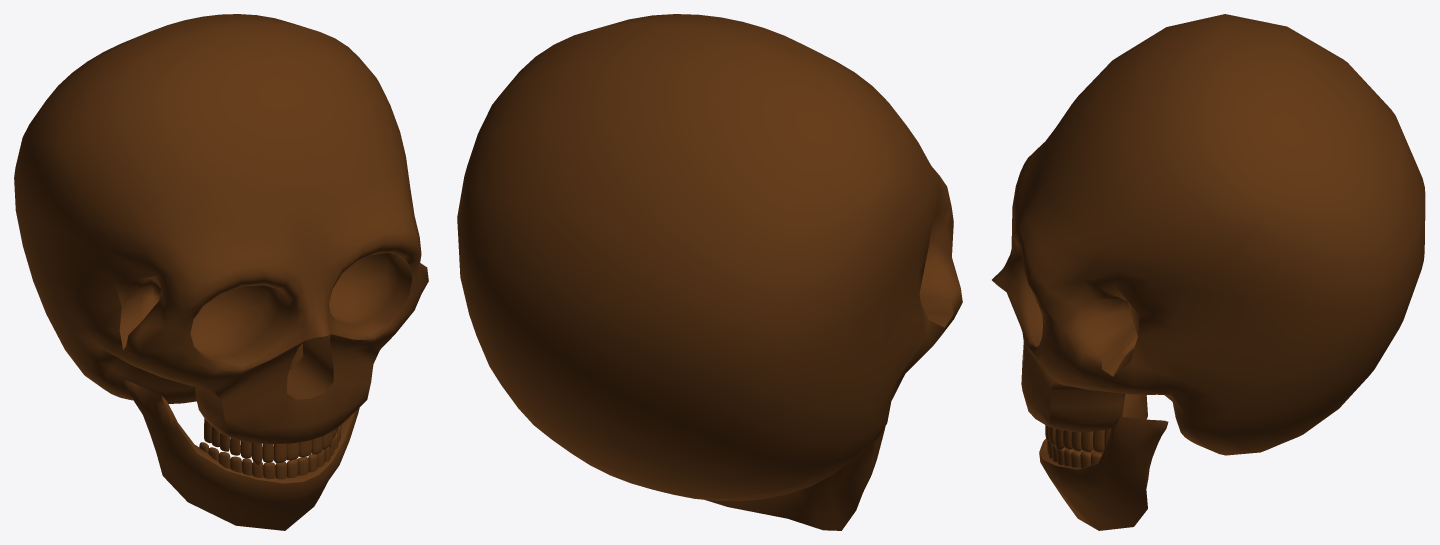
File: skull.glb
3 views of the same model, side by side, from view 1: azimuth 30°, elevation 25°; view 2: azimuth 150°, elevation 25°; view 3: azimuth 270°, elevation 25° (orthographic). The views are drawn at different scales.
Parts seen in each view (by area): view 1: Circle; view 2: Circle; view 3: Circle.
Part boxes in pixels (x1,y1,x2,y2): Circle: [14, 14, 428, 530]; Circle: [457, 14, 962, 530]; Circle: [992, 14, 1425, 530].
Bounding box in the file's own units: 6.06 × 7.82 × 6.44.
